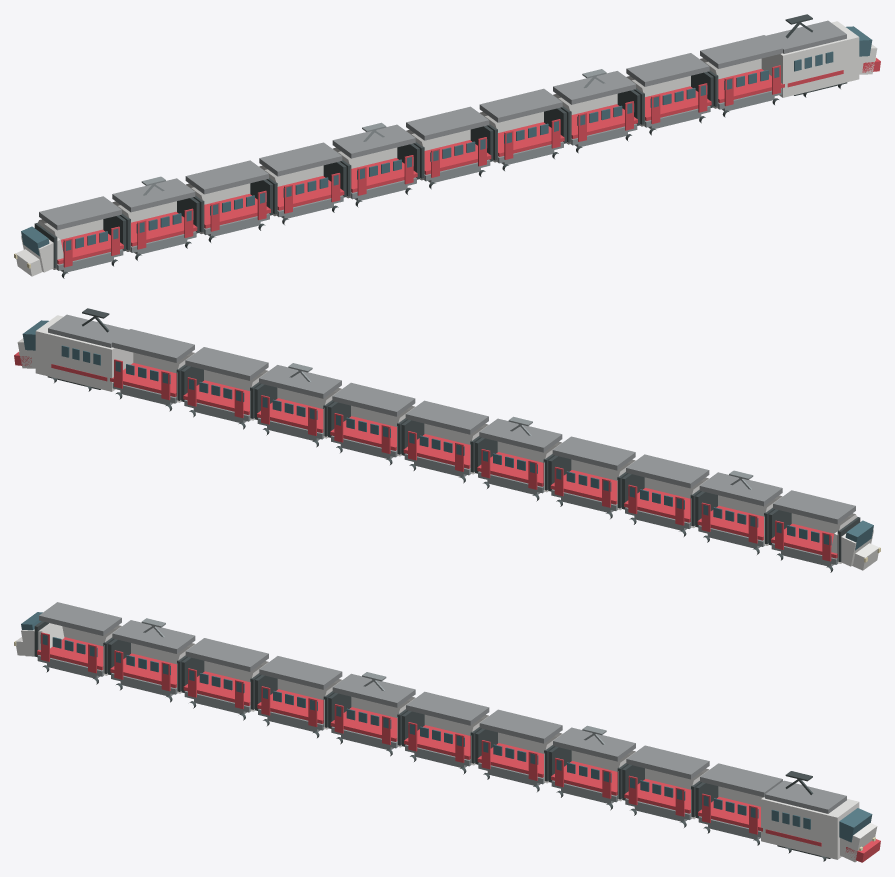
File: giruno.glb
3 renders of one model, top to bottom at view 1: azimuth 30°, elevation 25°; view 2: azimuth 150°, elevation 25°; view 3: azimuth 330°, elevation 25°, orthographic.
Parts seen in each view (by area): view 1: giruno_low_floor_body, giruno_car_7_roof, giruno_car_2_roof, giruno_car_4_roof, giruno_car_8_roof, giruno_car_5_roof, giruno_car_10_roof, giruno_car_1_roof, giruno_car_6_roof, giruno_car_3_roof, giruno_car_9_roof, roof (+21 smaller); view 2: giruno_low_floor_body, giruno_car_7_roof, giruno_car_2_roof, giruno_car_4_roof, giruno_car_8_roof, giruno_car_5_roof, giruno_car_10_roof, giruno_car_1_roof, giruno_car_6_roof, giruno_car_3_roof, giruno_car_9_roof, roof (+21 smaller); view 3: giruno_low_floor_body, giruno_car_2_roof, giruno_car_4_roof, giruno_car_5_roof, giruno_car_7_roof, giruno_car_8_roof, giruno_car_10_roof, giruno_car_6_roof, giruno_car_1_roof, giruno_car_9_roof, giruno_car_3_roof, roof (+22 smaller).
Part boxes in pixels (left/top/right/bottom): giruno_low_floor_body: left=761, top=21, right=859, bottom=97; giruno_car_7_roof: left=259, top=142, right=342, bottom=176; giruno_car_2_roof: left=626, top=53, right=709, bottom=86; giruno_car_4_roof: left=479, top=88, right=562, bottom=122; giruno_car_8_roof: left=185, top=160, right=268, bottom=194; giruno_car_5_roof: left=406, top=106, right=489, bottom=140; giruno_car_10_roof: left=39, top=196, right=121, bottom=230; giruno_car_1_roof: left=700, top=35, right=782, bottom=68; giruno_car_6_roof: left=332, top=124, right=415, bottom=158; giruno_car_3_roof: left=553, top=71, right=635, bottom=104; giruno_car_9_roof: left=112, top=178, right=195, bottom=212; roof: left=766, top=20, right=846, bottom=53; giruno_low_floor_body: left=35, top=315, right=133, bottom=391; giruno_car_7_roof: left=552, top=436, right=635, bottom=470; giruno_car_2_roof: left=185, top=347, right=268, bottom=380; giruno_car_4_roof: left=332, top=382, right=415, bottom=416; giruno_car_8_roof: left=626, top=454, right=709, bottom=488; giruno_car_5_roof: left=405, top=400, right=488, bottom=434; giruno_car_10_roof: left=773, top=490, right=855, bottom=524; giruno_car_1_roof: left=112, top=329, right=194, bottom=362; giruno_car_6_roof: left=479, top=418, right=562, bottom=452; giruno_car_3_roof: left=259, top=365, right=341, bottom=398; giruno_car_9_roof: left=699, top=472, right=782, bottom=506; roof: left=48, top=314, right=128, bottom=347; giruno_low_floor_body: left=761, top=797, right=859, bottom=859; giruno_car_2_roof: left=626, top=745, right=709, bottom=779; giruno_car_4_roof: left=479, top=709, right=562, bottom=743; giruno_car_5_roof: left=406, top=691, right=489, bottom=725; giruno_car_7_roof: left=259, top=656, right=342, bottom=689; giruno_car_8_roof: left=185, top=638, right=268, bottom=671; giruno_car_10_roof: left=39, top=602, right=121, bottom=635; giruno_car_6_roof: left=332, top=673, right=415, bottom=707; giruno_car_1_roof: left=700, top=763, right=782, bottom=797; giruno_car_9_roof: left=112, top=620, right=195, bottom=653; giruno_car_3_roof: left=553, top=727, right=635, bottom=761; roof: left=765, top=780, right=846, bottom=813.
Size of the model in its own units: 16.45 by 1.31 by 0.791.
